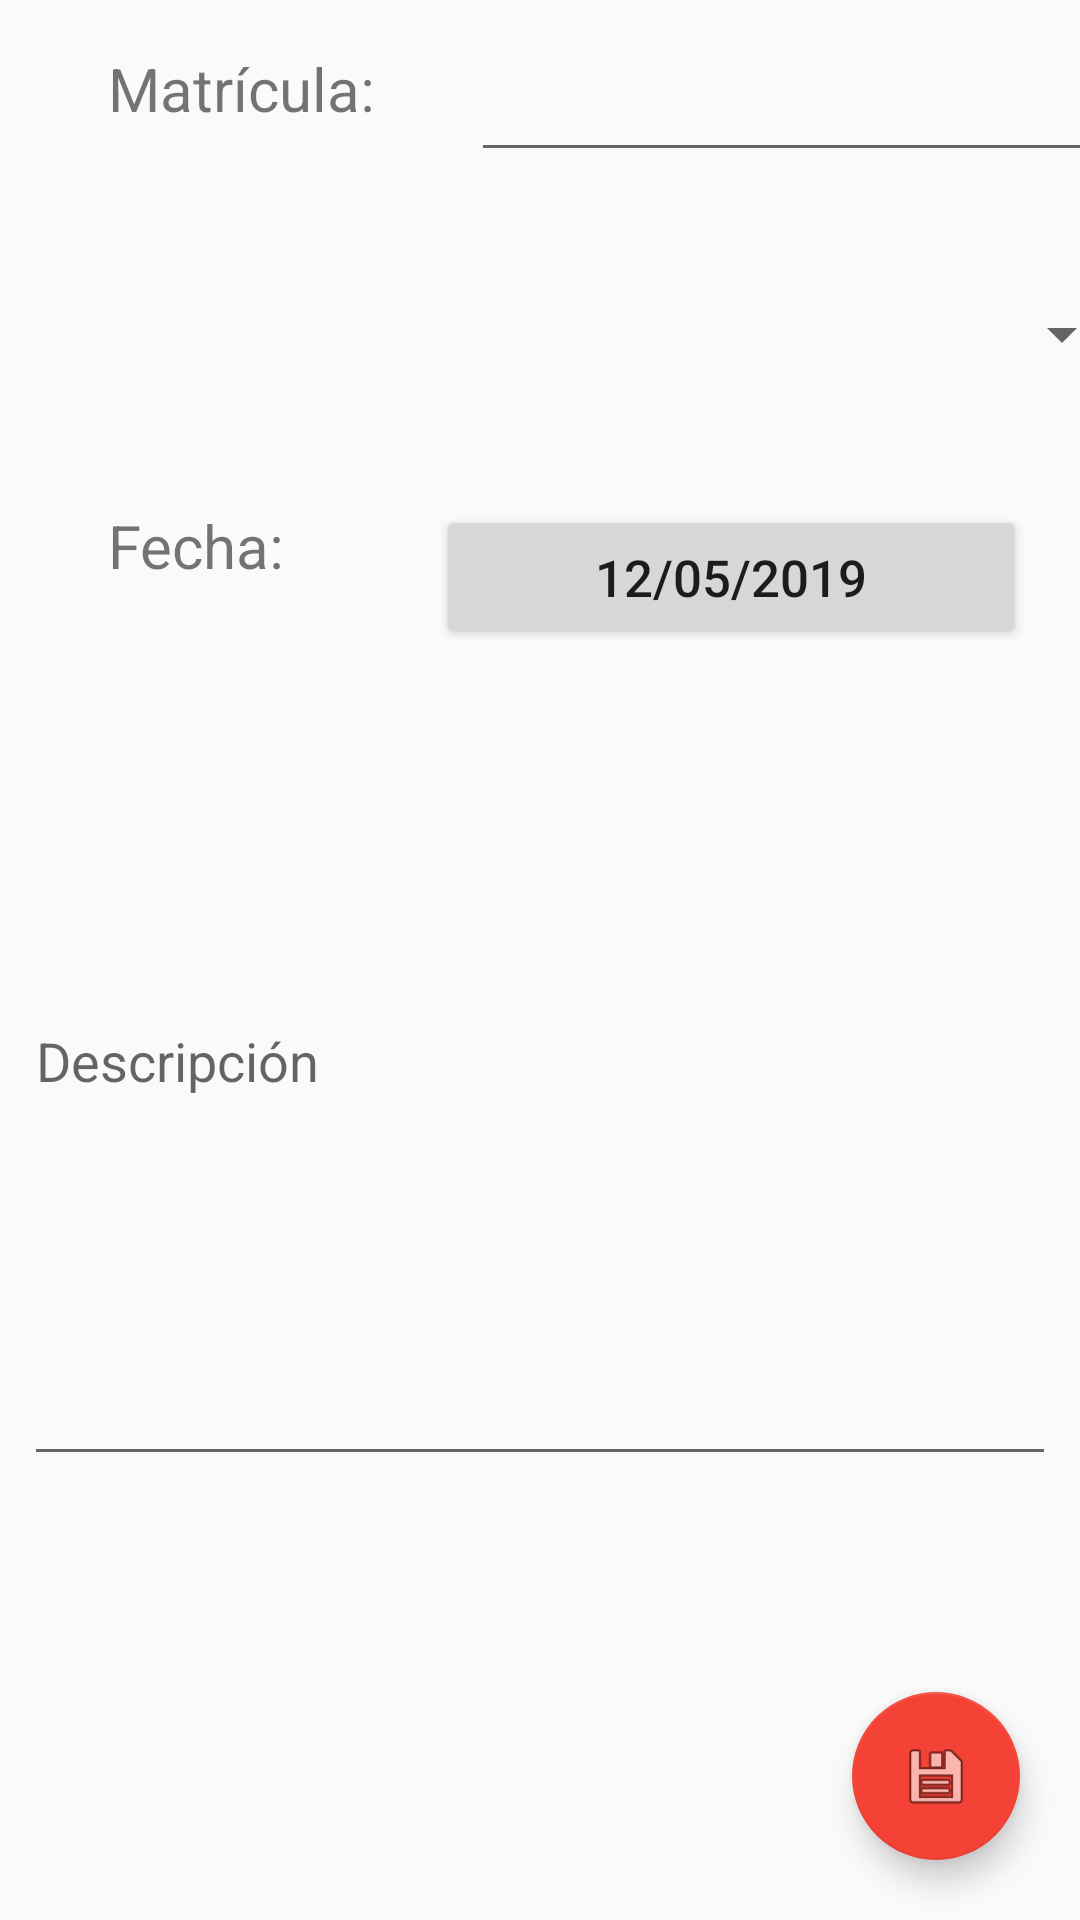

Icon click points for this 1080x1920 phone screenshot, format point (x, y):
save: point (936, 1776)
